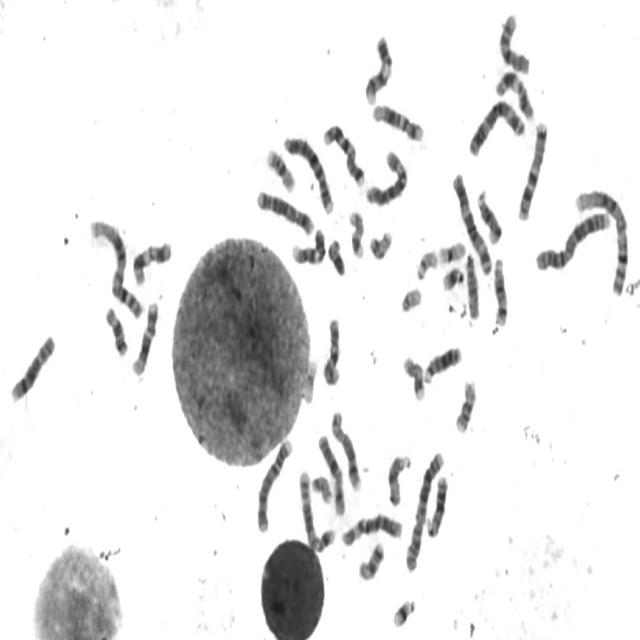A1: (572, 180, 632, 298), (86, 212, 146, 322)
A2: (402, 444, 447, 574), (532, 205, 613, 273)
A3: (450, 166, 494, 275), (465, 93, 528, 158)
B4: (280, 127, 336, 215), (253, 431, 295, 535)
B5: (296, 464, 338, 554), (253, 182, 316, 237)
C10: (496, 5, 533, 76), (320, 310, 344, 387)
C11: (493, 62, 538, 123), (130, 234, 175, 286)
C12: (370, 96, 426, 144), (129, 294, 161, 376)
C6: (362, 143, 410, 208), (338, 506, 404, 549)
C7: (515, 115, 550, 222), (320, 117, 367, 188)
C8: (7, 326, 58, 404), (328, 403, 364, 492)
C9: (362, 28, 396, 106), (288, 221, 328, 266)
D13: (421, 338, 464, 385), (422, 467, 450, 539)
D14: (474, 182, 504, 246), (491, 250, 510, 328)
D15: (384, 446, 414, 508), (463, 246, 482, 322)
E16: (264, 142, 298, 194), (452, 373, 479, 434)
E17: (400, 350, 427, 402), (346, 204, 368, 260)
E18: (102, 299, 130, 357), (356, 534, 386, 582)
F19: (300, 351, 320, 406), (436, 234, 468, 266)
F20: (366, 223, 395, 261), (308, 467, 334, 505)
G21: (389, 592, 418, 630), (438, 260, 466, 293)
G22: (413, 242, 440, 282), (398, 280, 424, 314)
X: (315, 427, 348, 518)
Y: (325, 232, 347, 278)
